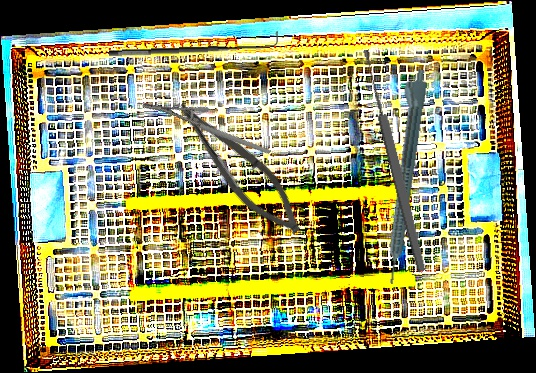Handpiece: (375, 67, 429, 285)
Hook Surgical: (108, 31, 279, 59)
Micro Scissor: (160, 93, 316, 245)
Needle Holder: (140, 68, 272, 190)
Surgical Spoon: (360, 48, 428, 273)
